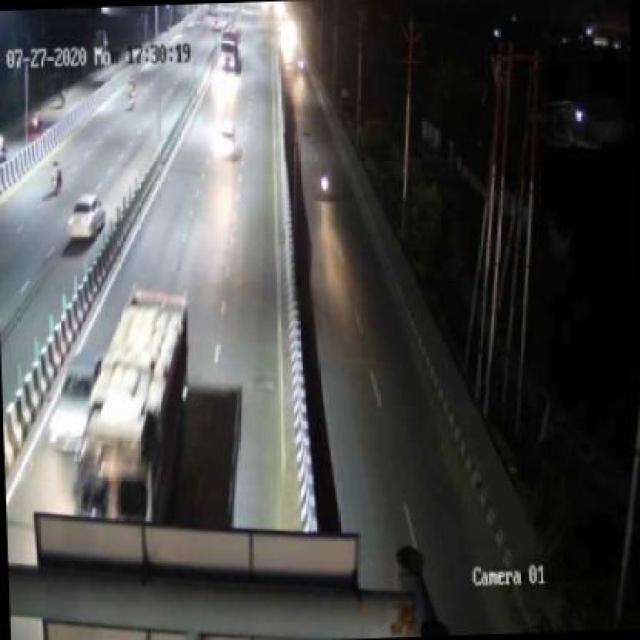car: (49, 346, 97, 443), (220, 118, 242, 158)
